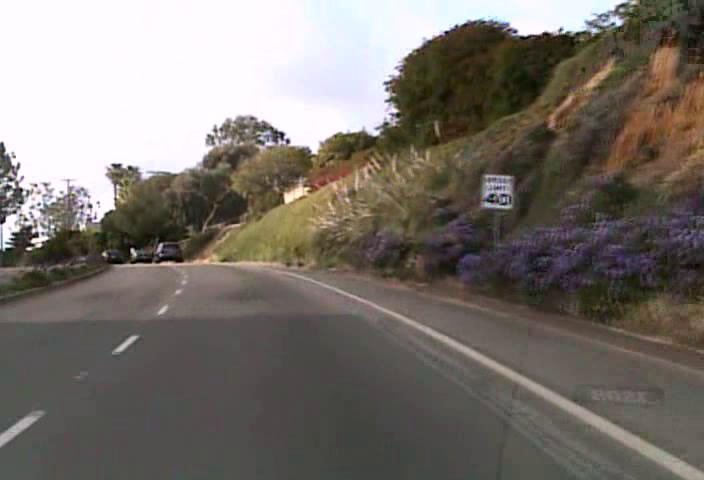speedLimit40: (479, 172, 514, 210)
